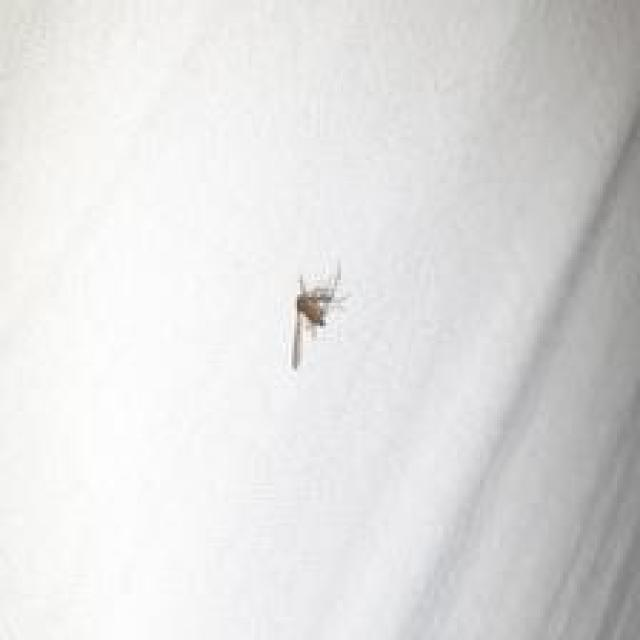Culex: (288, 260, 348, 371)
